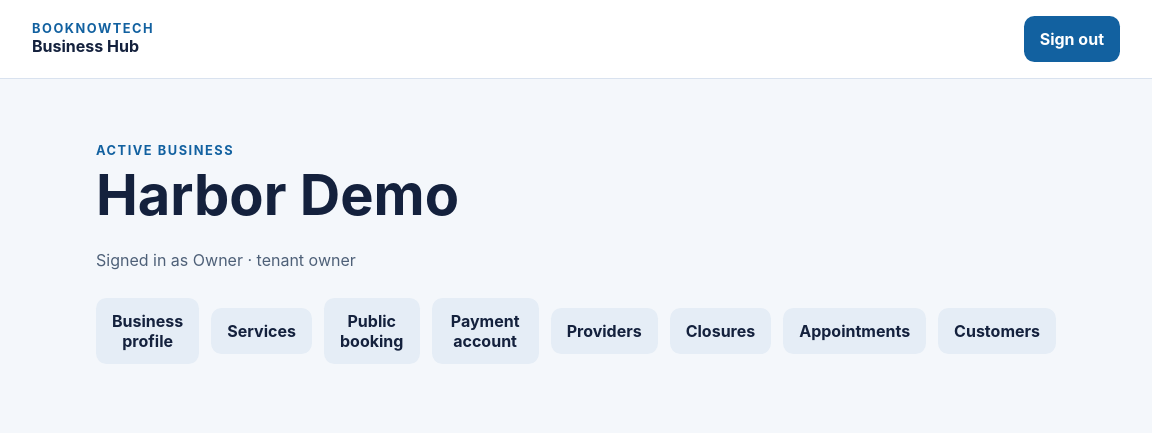
Business Hub › keeps the authenticated shell visible when sign out fails
The image size is (1152, 433).
Click the button "Sign out" at (1072, 39), box [1024, 16, 1120, 62]
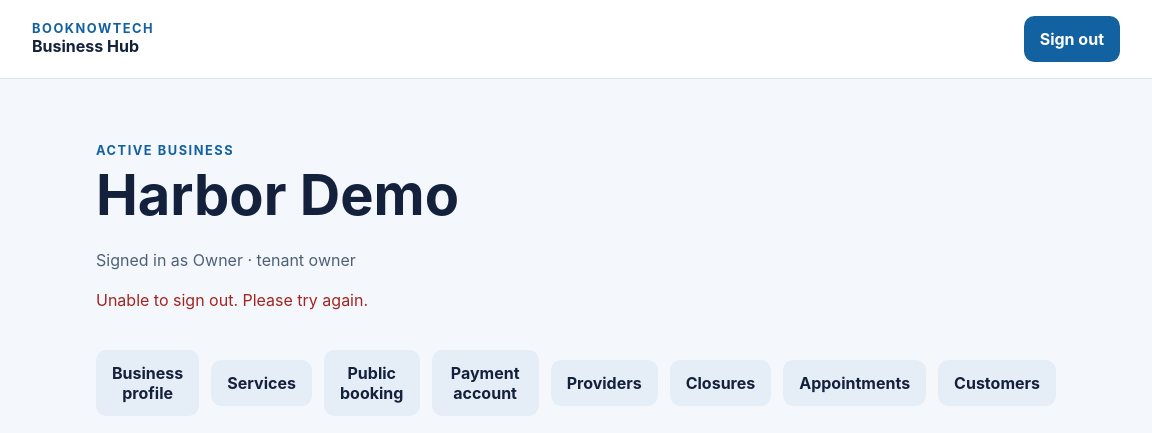
Expected: the heading "Harbor Demo" is shown, [96, 161, 459, 229]
Expected: the message shows "Unable to sign out", [96, 290, 368, 310]
